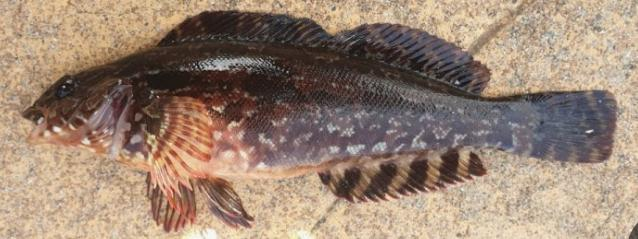fish: (22, 11, 615, 230)
